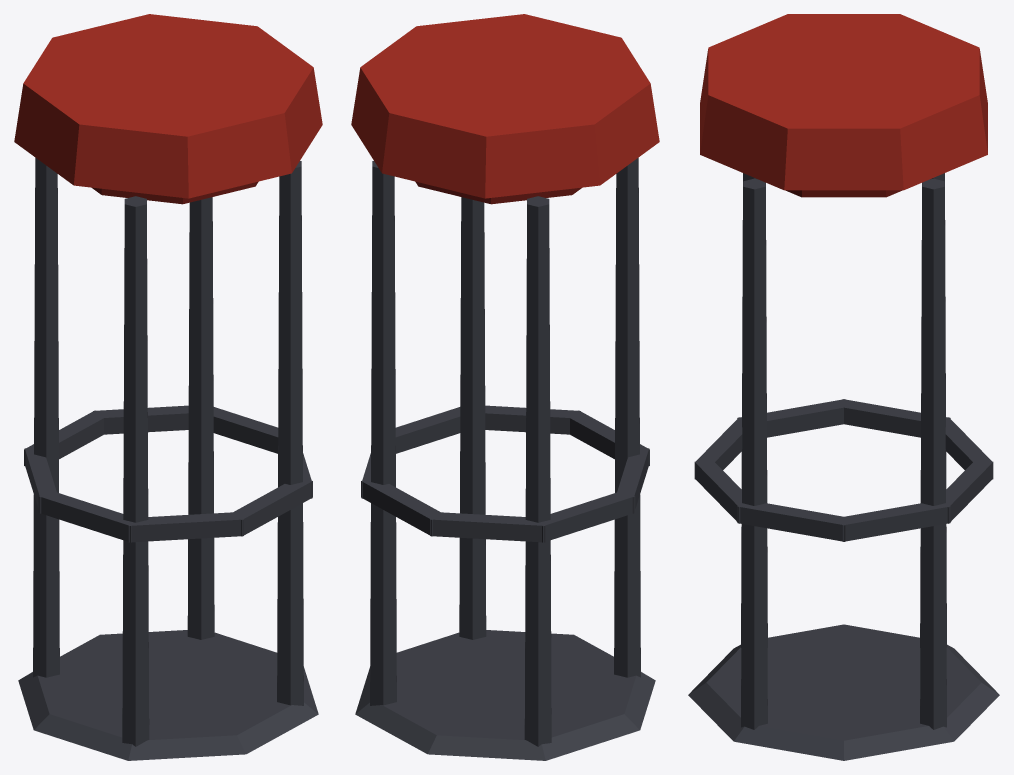
The model's file is stool_bar.glb.
3 renders of one model, left to right at view 1: azimuth 30°, elevation 25°; view 2: azimuth 150°, elevation 25°; view 3: azimuth 270°, elevation 25°, orthographic.
Visible parts, largest first — view 1: stool_bar; view 2: stool_bar; view 3: stool_bar.
Part boxes in pixels (x1=…): stool_bar: x1=14, y1=14, x2=322, y2=760; stool_bar: x1=351, y1=14, x2=659, y2=760; stool_bar: x1=688, y1=14, x2=999, y2=760.
Bounding box in the file's own units: 0.34 × 0.75 × 0.34.
